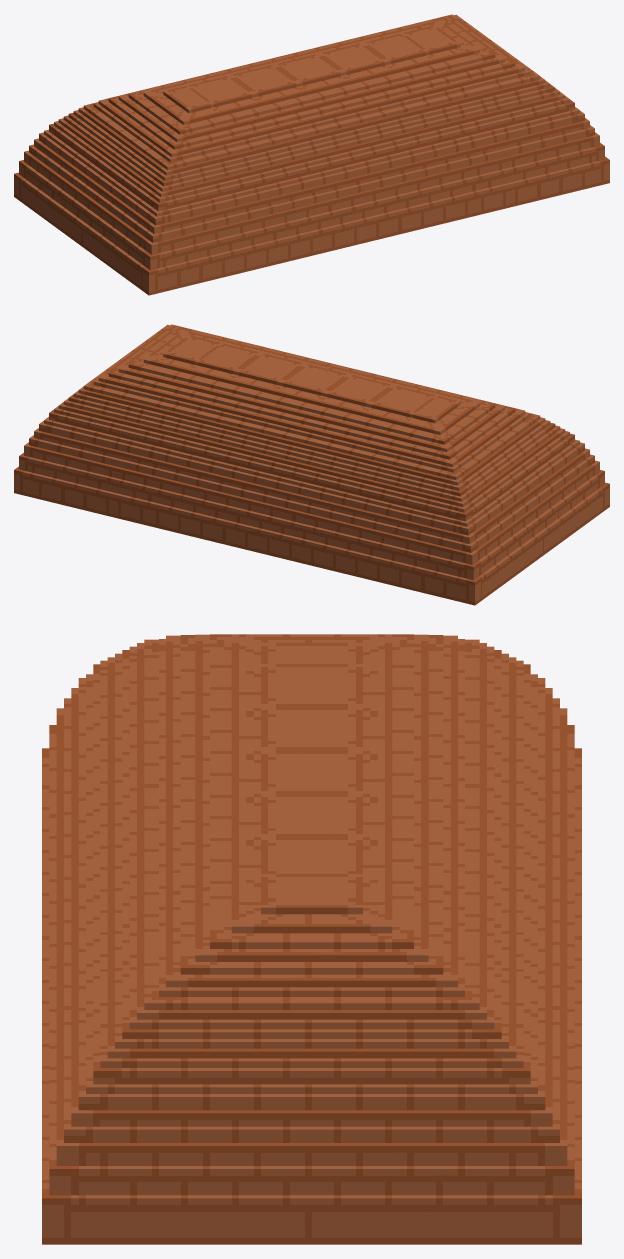
File: roof_textured_orange_oval_rectangular.glb
3 views of the same model, one above another, from view 1: azimuth 30°, elevation 25°; view 2: azimuth 150°, elevation 25°; view 3: azimuth 270°, elevation 25° (orthographic). The views are drawn at different scales.
Parts seen in each view (by area): view 1: GameObject; view 2: GameObject; view 3: GameObject.
Part boxes in pixels (left/top/right/bottom): GameObject: left=14, top=14, right=609, bottom=295; GameObject: left=14, top=324, right=609, bottom=605; GameObject: left=42, top=634, right=581, bottom=1244.
Size of the model in its own units: 14.6 by 3.7 by 7.4.
Materials: 1 (1 with a texture image).
